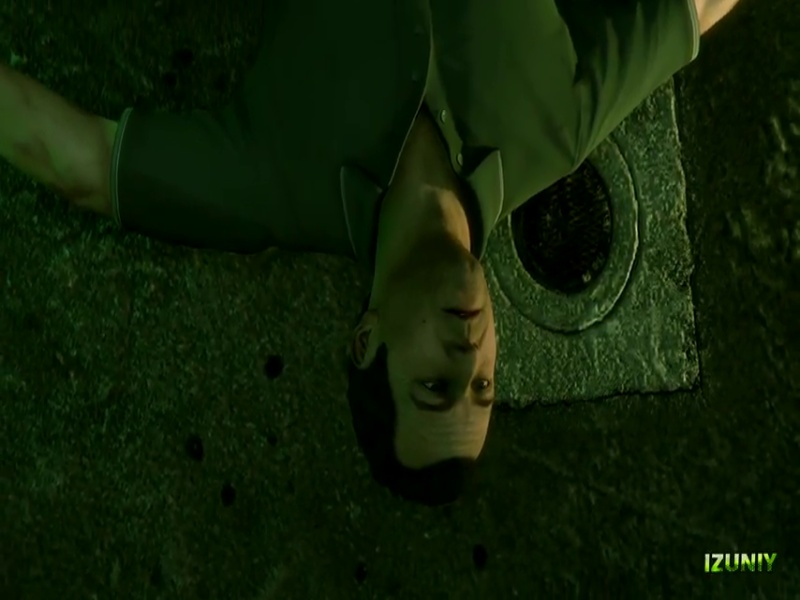human: (9, 1, 733, 510)
